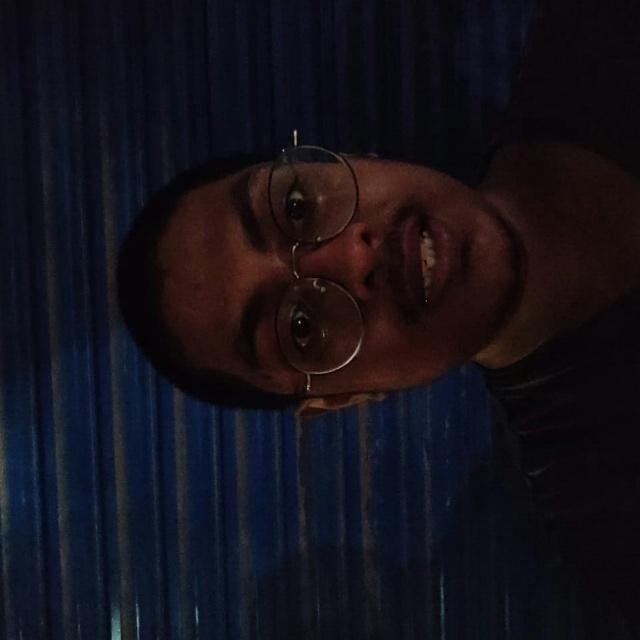Angry: (112, 110, 554, 418)
